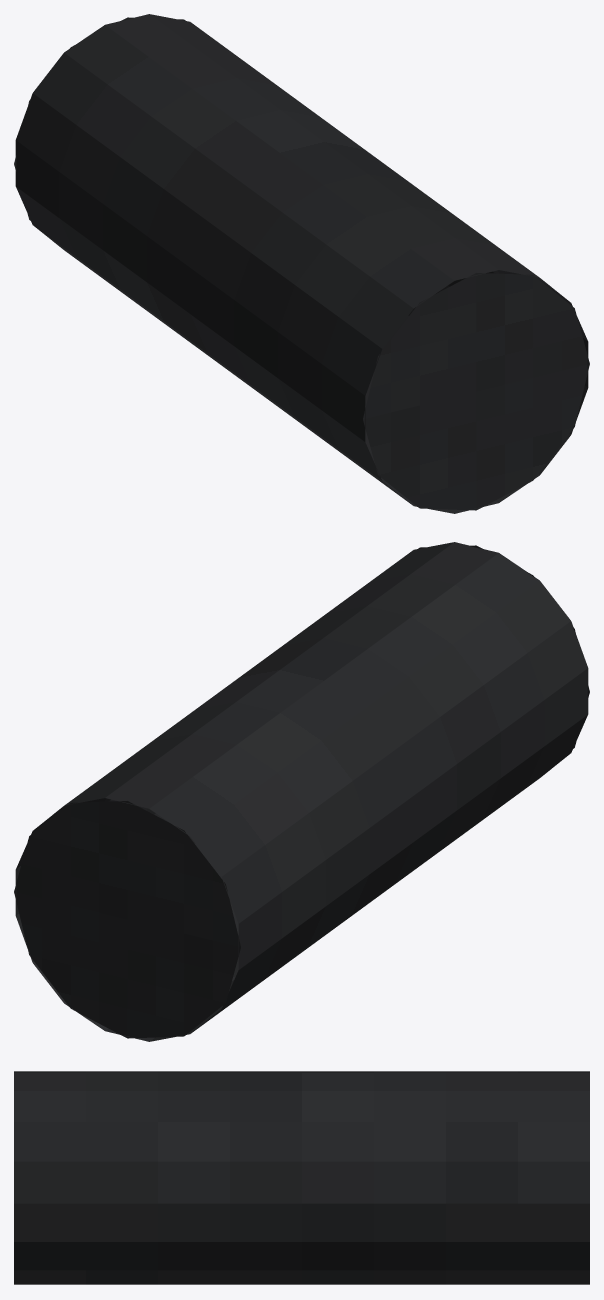
File: decopole_lahollywood_shaft.obj
3 renders of one model, top to bottom at view 1: azimuth 30°, elevation 25°; view 2: azimuth 150°, elevation 25°; view 3: azimuth 270°, elevation 25°, orthographic. The views are drawn at different scales.
Visible parts, largest first — view 1: decopole_lahollywood_shaft; view 2: decopole_lahollywood_shaft; view 3: decopole_lahollywood_shaft.
Part boxes in pixels (x1,y1,x2,y2): decopole_lahollywood_shaft: [14, 14, 589, 513]; decopole_lahollywood_shaft: [14, 542, 589, 1041]; decopole_lahollywood_shaft: [14, 1071, 589, 1284].
Size of the model in its own units: 0.375 by 0.375 by 1.
